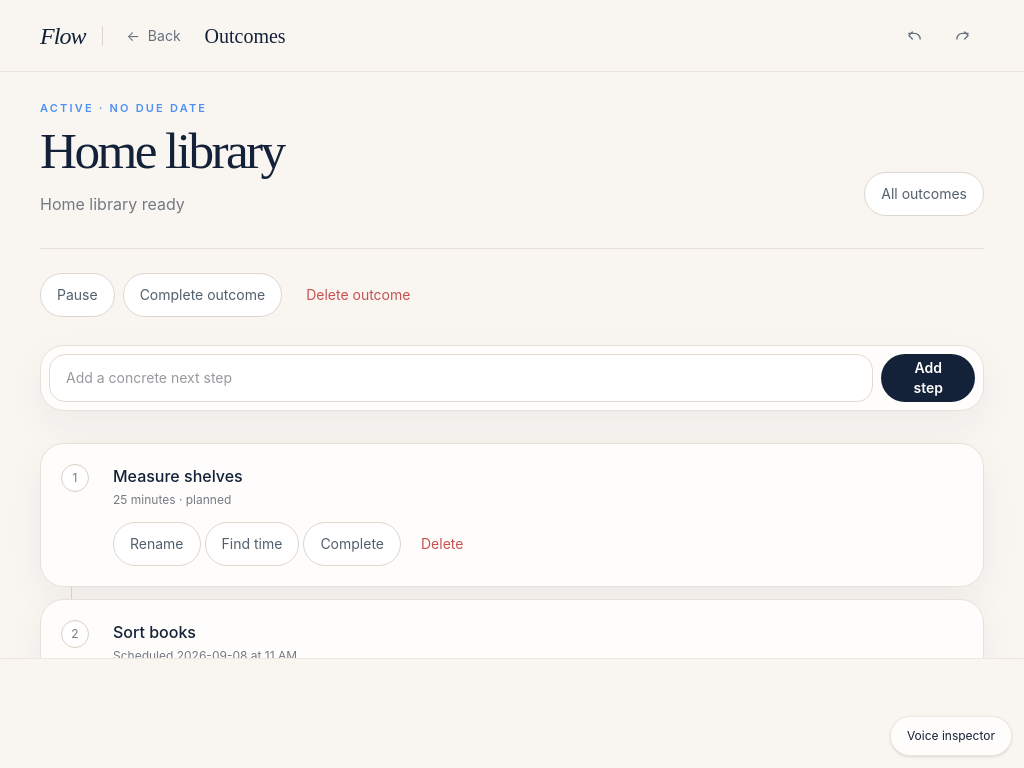
Scenario: canonical entity view controls › opens the exact Outcome step editor through click
Click the button "Rename" at (157, 544), box [113,522,200,566]
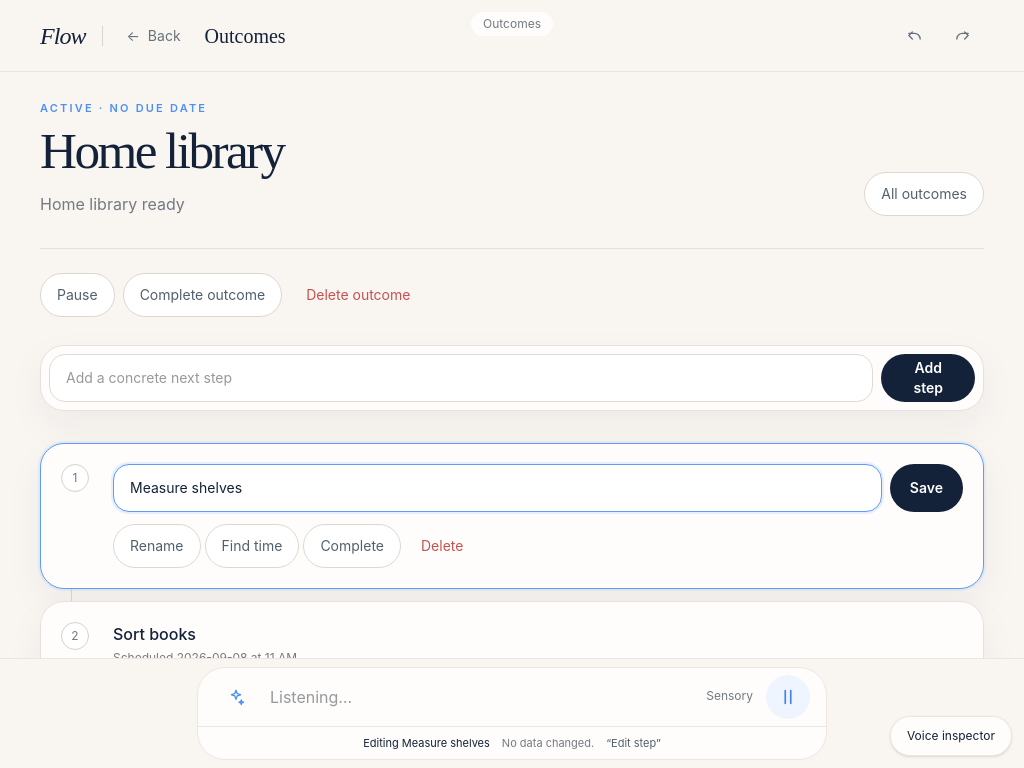
Expected: the field named "Rename Measure shelves" holds "Measure shelves", [113,464,882,512]
